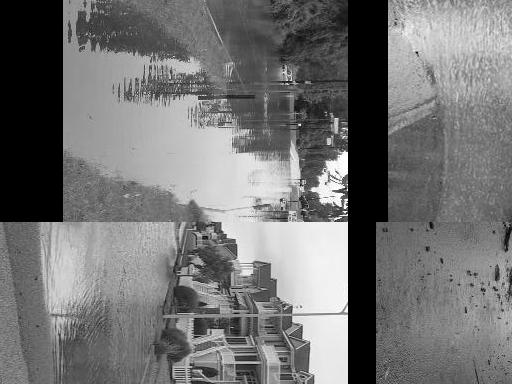road_waterlogging: (65, 48, 212, 178), (227, 0, 302, 222), (56, 222, 139, 384), (148, 222, 182, 299)
